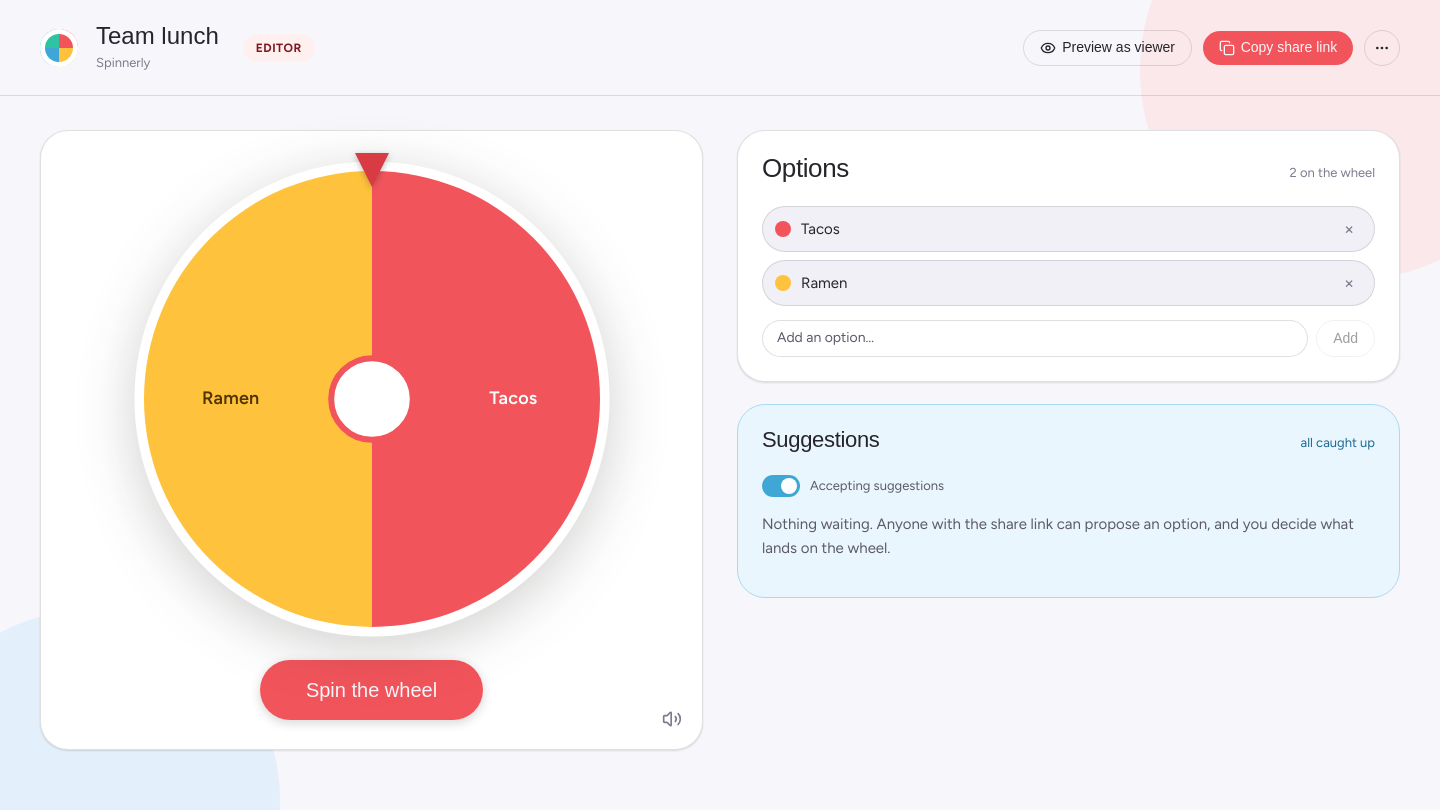
Test: editing the options › removes an option without waiting for a snapshot
Expected: the header is shown, [0,0,1439,96]
Click the button named "Remove Tacos": (1349, 229) [1334,214,1364,244]
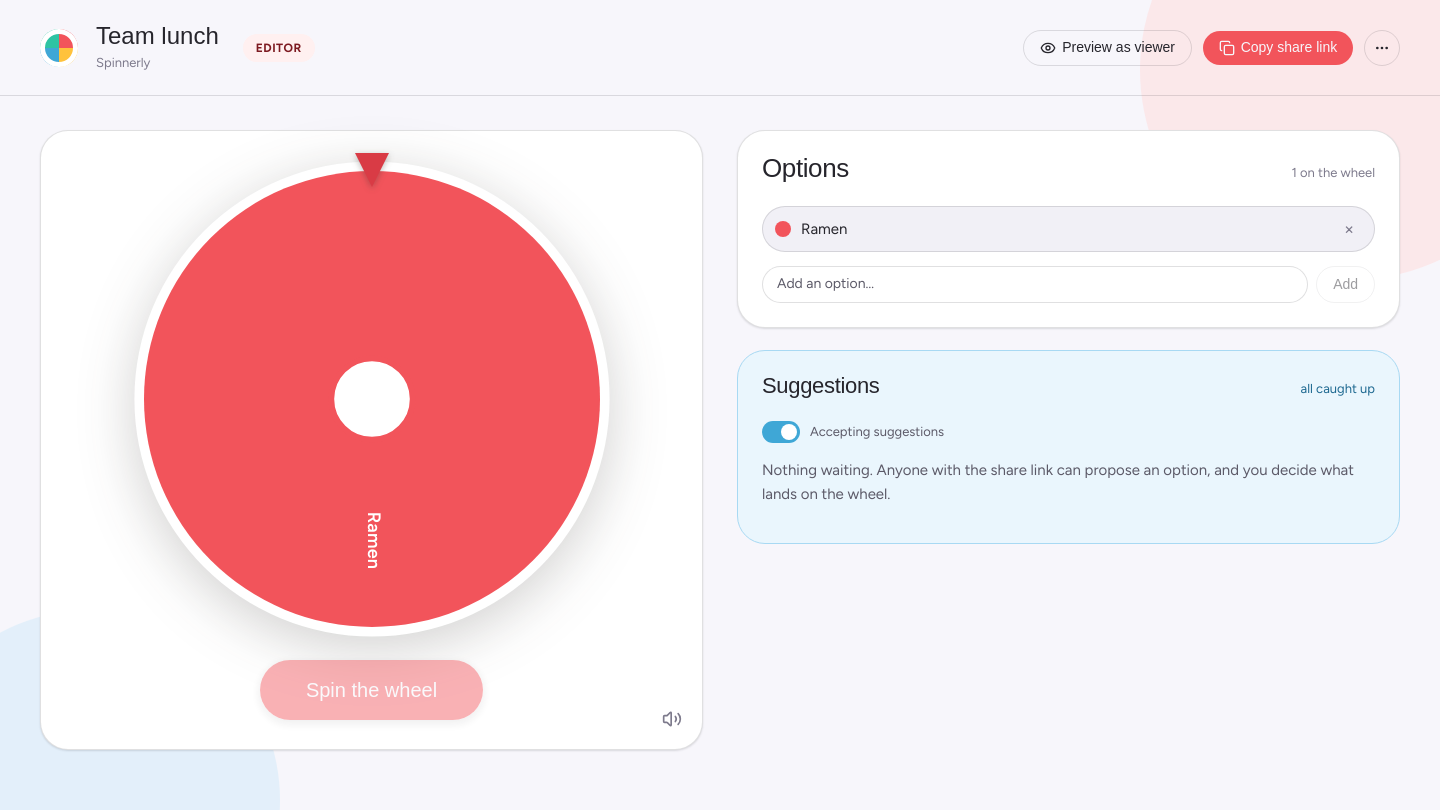
Expected: the text "Ramen" is shown, [801,220,847,238]
Result: the picture "Tacos" is gone
